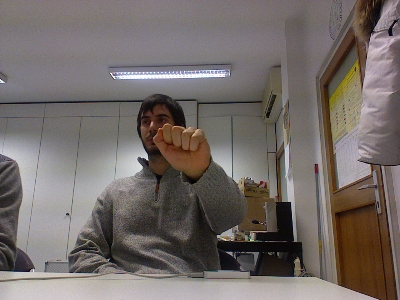石头: (151, 122, 211, 175)
